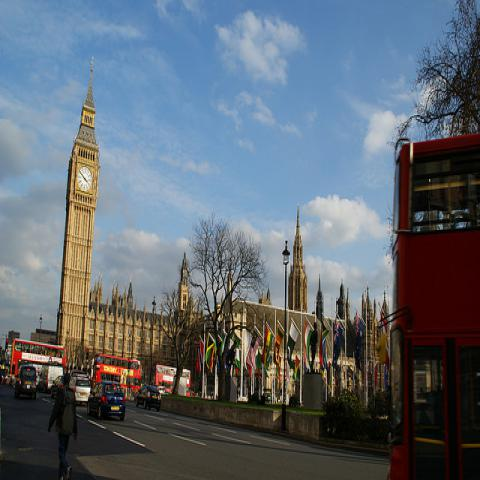bus: (392, 136, 480, 475), (92, 349, 144, 399), (10, 338, 66, 375), (152, 364, 191, 394), (20, 364, 64, 388)
car: (86, 380, 126, 422), (12, 363, 38, 399), (134, 386, 162, 412), (70, 375, 92, 403), (50, 375, 64, 398)
